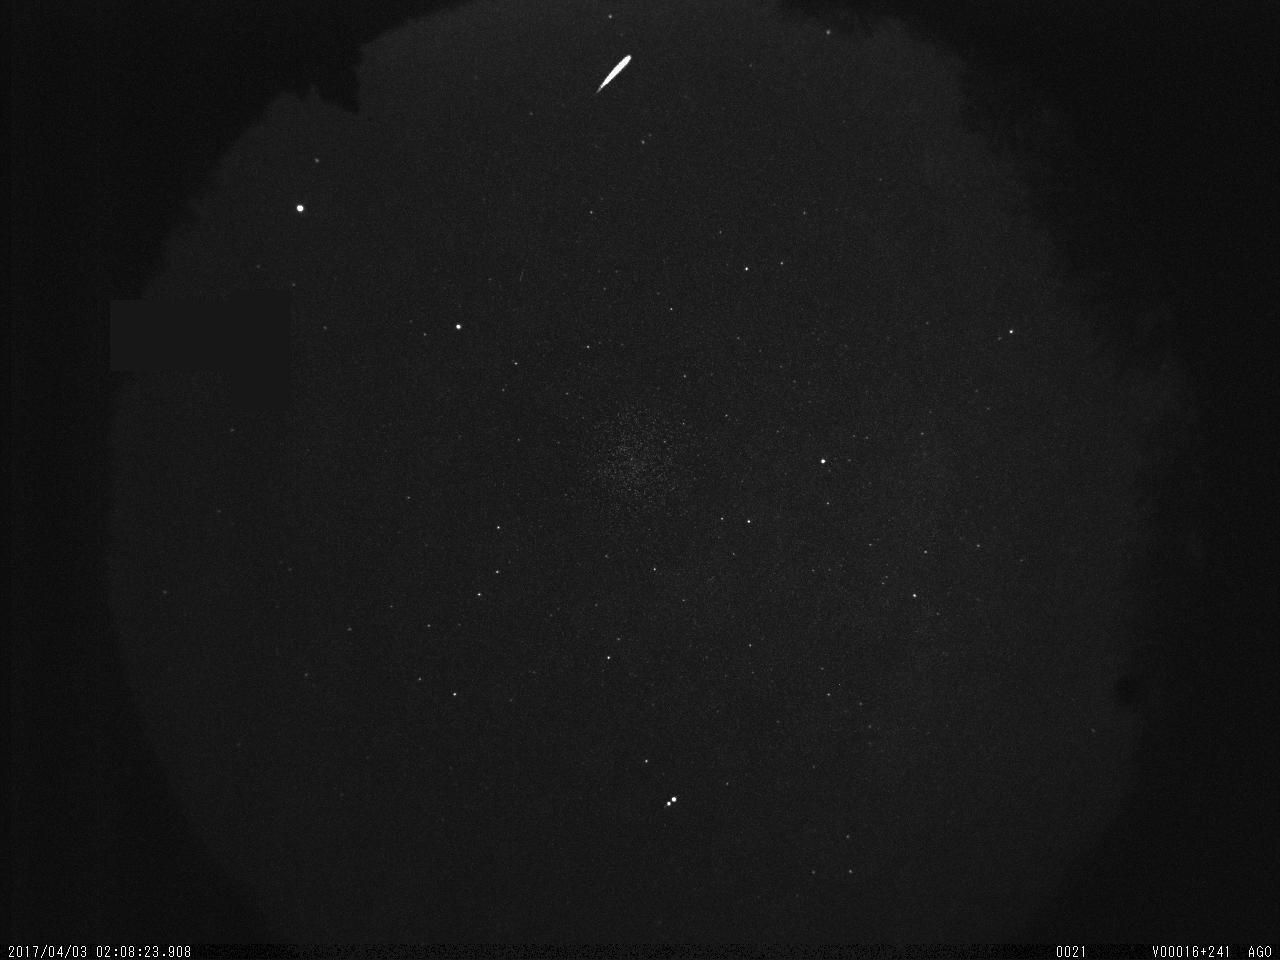meteor: (592, 44, 640, 105)
